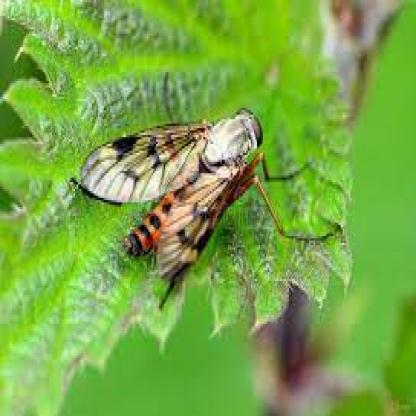sawfly: (78, 83, 324, 296)
